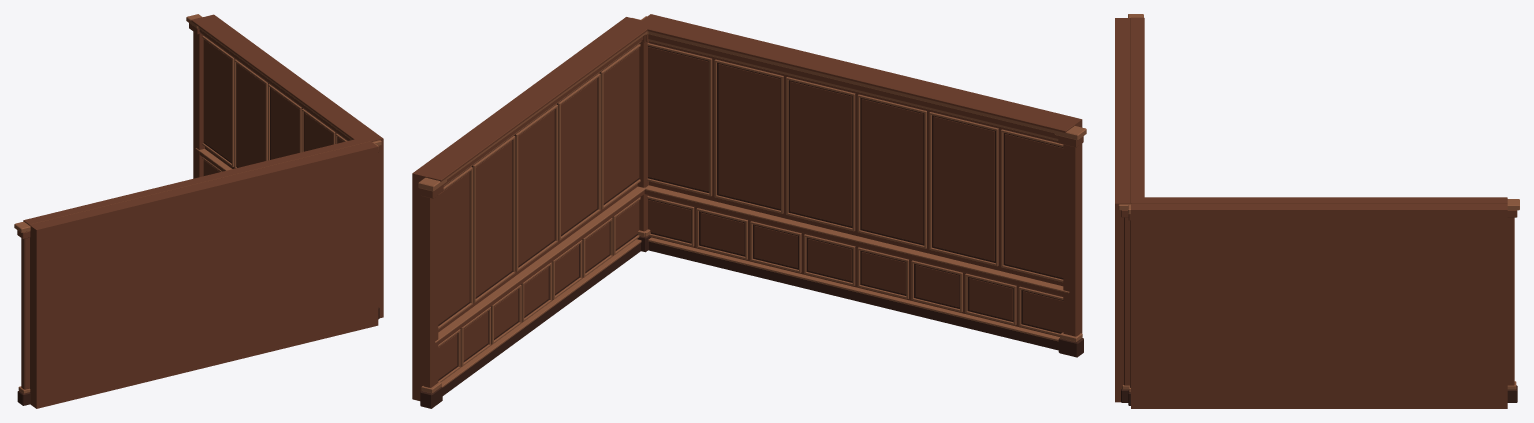
File: r04_complete_shell.glb
The picture shows the model from 3 angles, left to right: view 1: azimuth 30°, elevation 25°; view 2: azimuth 150°, elevation 25°; view 3: azimuth 270°, elevation 25°; orthographic projection. The views are drawn at different scales.
Parts seen in each view (by area): view 1: R04_front_Wall_Solid_00, R04_right_Wall_Solid_00, R04_right_Wall_UpperPanel_00_0_0_Field, R04_right_Wall_UpperPanel_00_0_1_Field, R04_front_Wall_Cornice_00_3_0, R04_right_Wall_Cornice_00_3_0, R04_right_Wall_UpperPanel_00_0_2_Field, Pilaster_Shaft_004, Pilaster_Shaft_009, R04_right_Wall_UpperPanel_00_0_3_Field, R04_right_Wall_Cornice_00_1_0, R04_right_Wall_Cornice_00_2_0; view 2: R04_front_Wall_Solid_00, R04_front_Wall_UpperPanel_00_0_1_Field, R04_front_Wall_UpperPanel_00_0_3_Field, R04_front_Wall_UpperPanel_00_0_2_Field, R04_front_Wall_UpperPanel_00_0_4_Field, R04_front_Wall_UpperPanel_00_0_0_Field, R04_front_Wall_UpperPanel_00_0_5_Field, R04_right_Wall_Solid_00, R04_right_Wall_UpperPanel_00_0_1_Field, R04_right_Wall_UpperPanel_00_0_2_Field, R04_right_Wall_UpperPanel_00_0_3_Field, R04_right_Wall_UpperPanel_00_0_4_Field (+38 smaller); view 3: R04_right_Wall_Solid_00, R04_front_Wall_Solid_00, R04_front_Wall_Cornice_00_3_0, R04_right_Wall_Cornice_00_3_0, Pilaster_Shaft_004, Pilaster_Shaft_005.
Part boxes in pixels (bbox=[...]): R04_front_Wall_Solid_00: bbox=[29, 141, 378, 408]; R04_right_Wall_Solid_00: bbox=[202, 14, 383, 317]; R04_right_Wall_UpperPanel_00_0_0_Field: bbox=[203, 39, 231, 162]; R04_right_Wall_UpperPanel_00_0_1_Field: bbox=[237, 63, 265, 167]; R04_front_Wall_Cornice_00_3_0: bbox=[23, 137, 370, 224]; R04_right_Wall_Cornice_00_3_0: bbox=[191, 17, 369, 140]; R04_right_Wall_UpperPanel_00_0_2_Field: bbox=[270, 88, 299, 159]; Pilaster_Shaft_004: bbox=[193, 31, 204, 178]; Pilaster_Shaft_009: bbox=[21, 237, 29, 389]; R04_right_Wall_UpperPanel_00_0_3_Field: bbox=[304, 113, 333, 151]; R04_right_Wall_Cornice_00_1_0: bbox=[199, 29, 350, 140]; R04_right_Wall_Cornice_00_2_0: bbox=[198, 27, 352, 139]; R04_front_Wall_Solid_00: bbox=[642, 14, 1082, 336]; R04_front_Wall_UpperPanel_00_0_1_Field: bbox=[718, 64, 780, 208]; R04_front_Wall_UpperPanel_00_0_3_Field: bbox=[861, 99, 923, 243]; R04_front_Wall_UpperPanel_00_0_2_Field: bbox=[790, 81, 851, 226]; R04_front_Wall_UpperPanel_00_0_4_Field: bbox=[933, 116, 994, 261]; R04_front_Wall_UpperPanel_00_0_0_Field: bbox=[648, 47, 708, 191]; R04_front_Wall_UpperPanel_00_0_5_Field: bbox=[1005, 134, 1063, 277]; R04_right_Wall_Solid_00: bbox=[412, 17, 641, 400]; R04_right_Wall_UpperPanel_00_0_1_Field: bbox=[475, 141, 512, 296]; R04_right_Wall_UpperPanel_00_0_2_Field: bbox=[518, 110, 554, 265]; R04_right_Wall_UpperPanel_00_0_3_Field: bbox=[561, 79, 597, 234]; R04_right_Wall_UpperPanel_00_0_4_Field: bbox=[603, 48, 639, 203]; R04_right_Wall_Solid_00: bbox=[1131, 203, 1507, 408]; R04_front_Wall_Solid_00: bbox=[1115, 18, 1130, 402]; R04_front_Wall_Cornice_00_3_0: bbox=[1130, 17, 1144, 202]; R04_right_Wall_Cornice_00_3_0: bbox=[1131, 197, 1507, 203]; Pilaster_Shaft_004: bbox=[1507, 217, 1514, 385]; Pilaster_Shaft_005: bbox=[1124, 217, 1129, 385].
Bounding box in the file's own units: 8.3 × 3.91 × 7.2.
